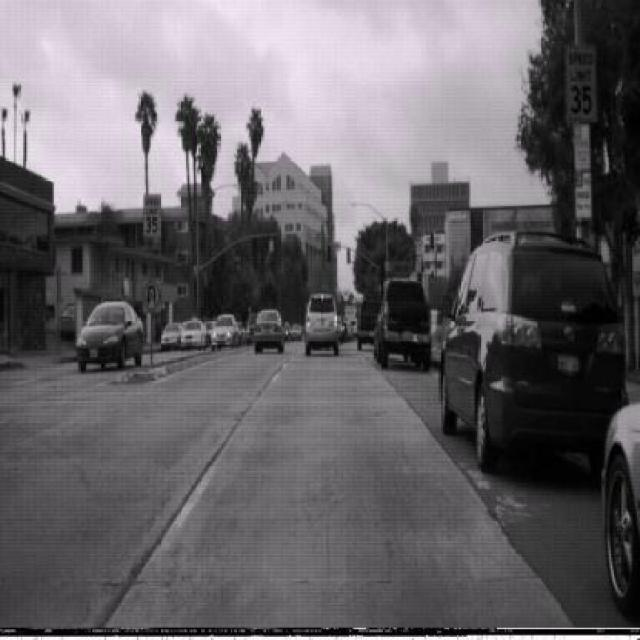speedLimit35: (563, 42, 596, 122), (143, 192, 162, 240)
